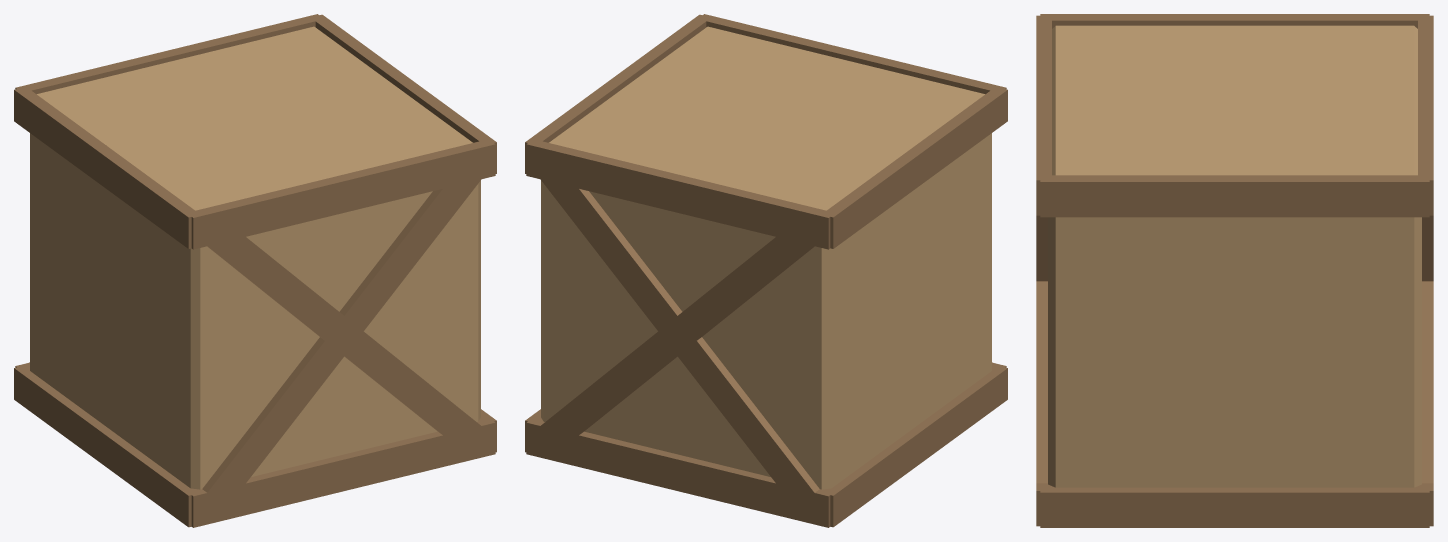
Rendered from Caixa.fbx.
3 views of the same model, side by side, from view 1: azimuth 30°, elevation 25°; view 2: azimuth 150°, elevation 25°; view 3: azimuth 270°, elevation 25° (orthographic). The views are drawn at different scales.
Parts seen in each view (by area): view 1: Caixa; view 2: Caixa; view 3: Caixa.
Boxes of the visible parts, x1=… form: Caixa: x1=14, y1=14, x2=496, y2=527; Caixa: x1=525, y1=14, x2=1007, y2=527; Caixa: x1=1036, y1=14, x2=1433, y2=527.
Size of the model in its own units: 1.02 by 0.98 by 1.02.
